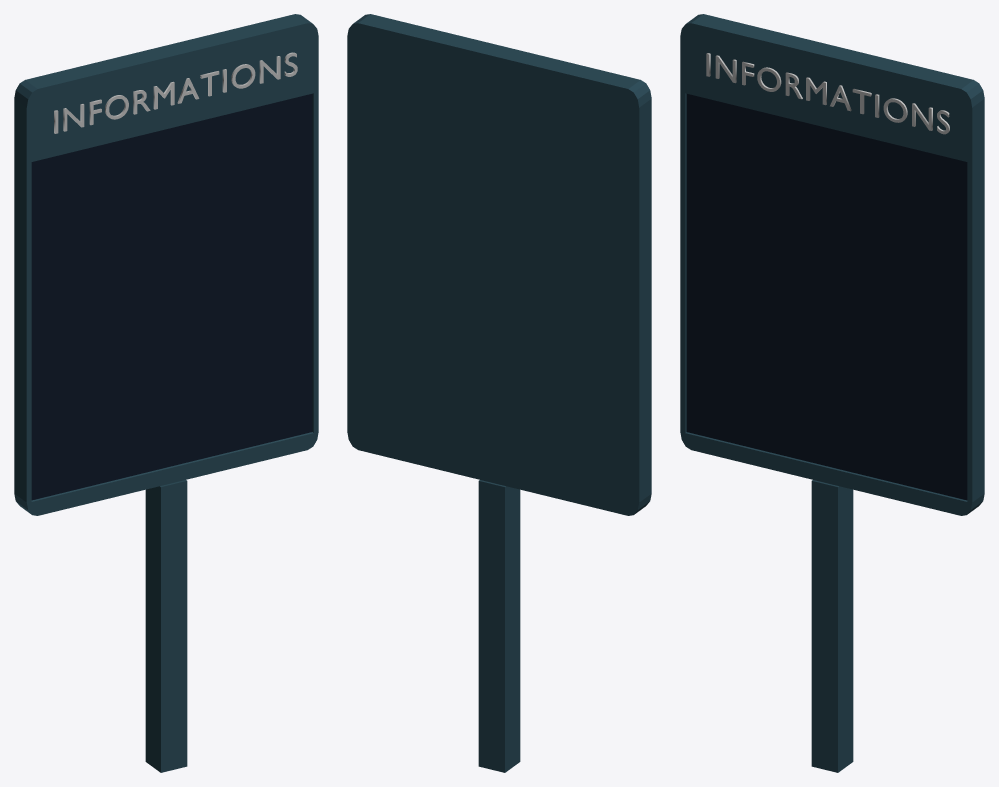
Rendered from infos.gltf.
3 renders of one model, left to right at view 1: azimuth 30°, elevation 25°; view 2: azimuth 150°, elevation 25°; view 3: azimuth 330°, elevation 25°, orthographic.
Parts seen in each view (by area): view 1: Cube.005; view 2: Cube.005; view 3: Cube.005.
Boxes of the visible parts, x1,y1,x2,y2 form: Cube.005: (14,14,318,772); Cube.005: (347,14,651,772); Cube.005: (680,14,984,772).
Bounding box in the file's own units: 5.03 × 11.74 × 0.4547.
